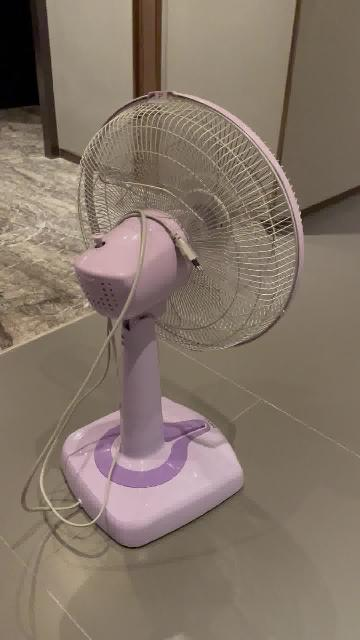Fan: (60, 91, 305, 552)
